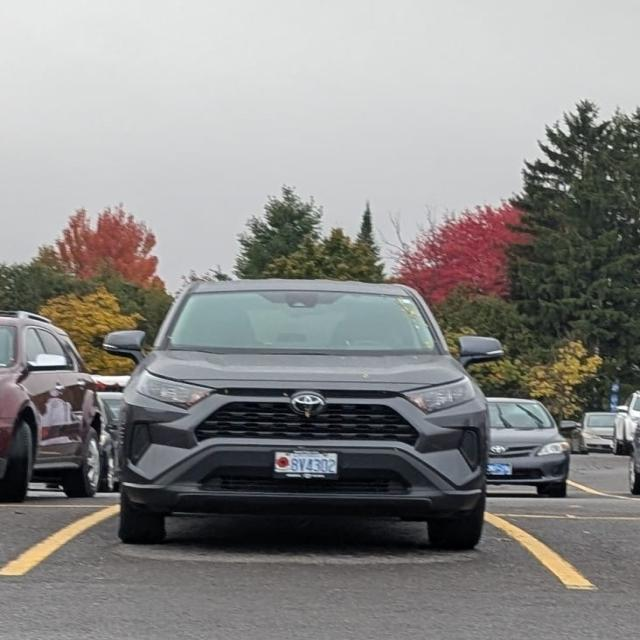plaque: (274, 451, 337, 478), (487, 463, 512, 475)
